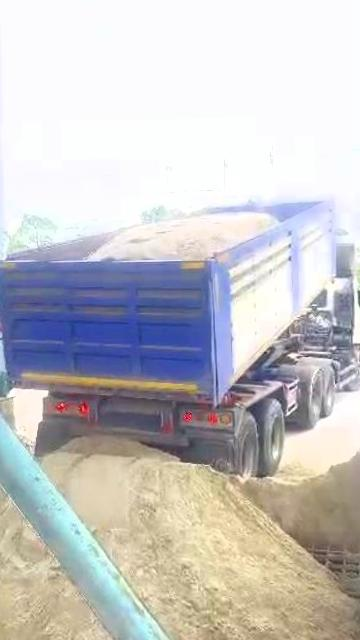sand: (45, 439, 357, 640), (0, 491, 134, 640), (245, 440, 360, 553), (89, 212, 276, 260)
